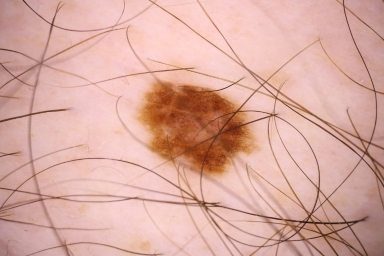melanoma: (141, 83, 258, 175)
